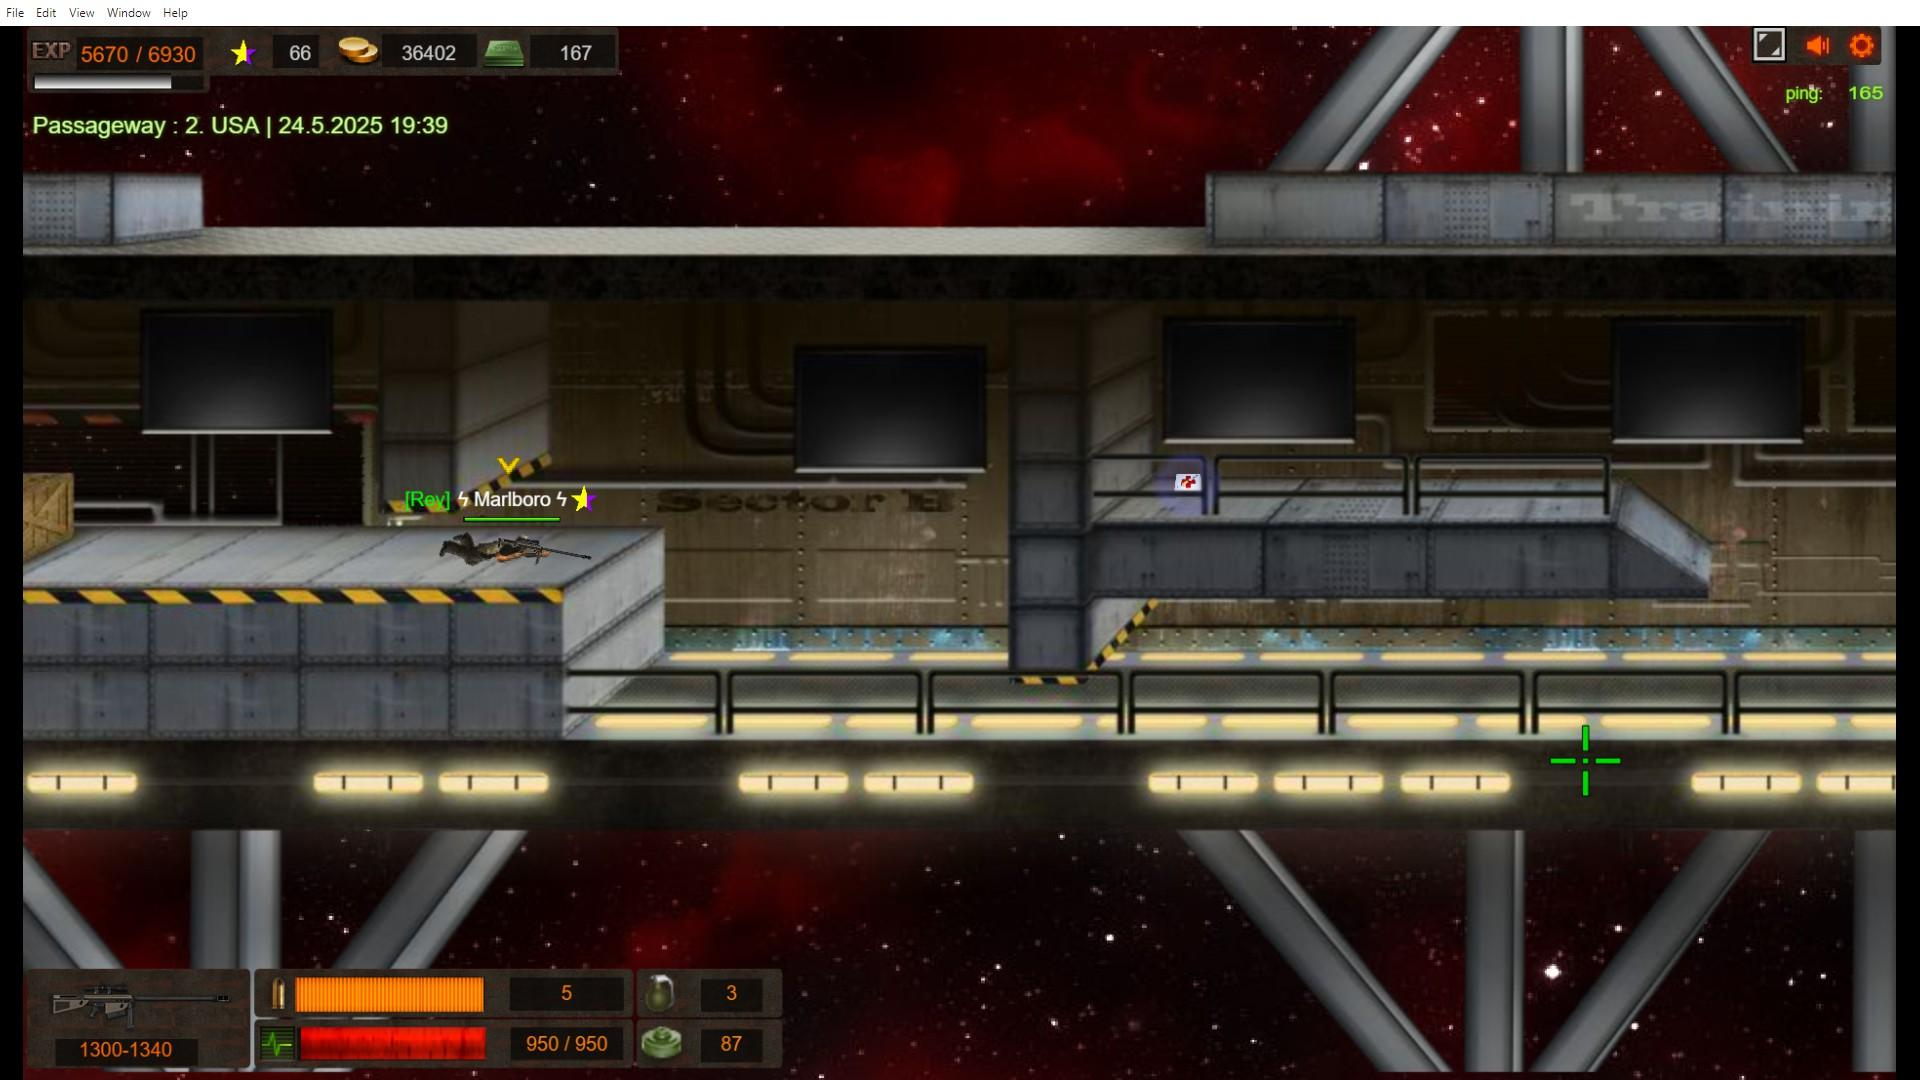enemy: (440, 533, 547, 562)
